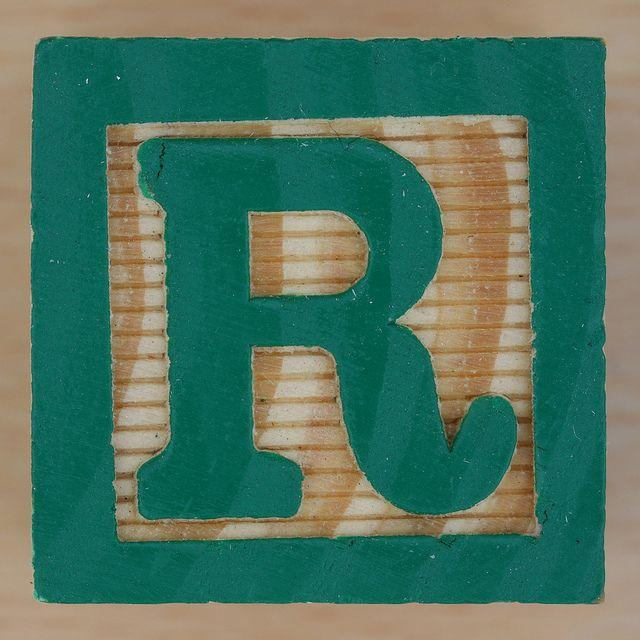R: (120, 130, 529, 528)
